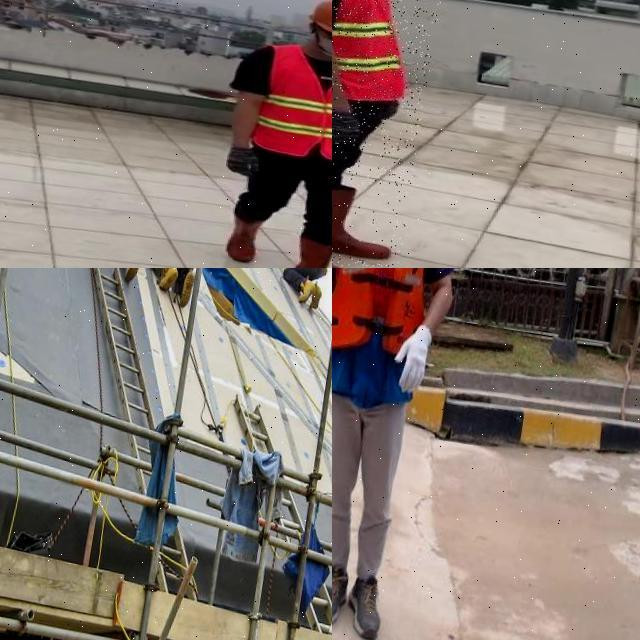boots: (332, 179, 398, 264), (340, 567, 393, 640), (332, 191, 375, 268), (221, 209, 265, 266), (332, 560, 354, 633), (289, 232, 332, 268), (155, 268, 180, 294), (180, 272, 198, 308), (308, 286, 327, 312), (297, 282, 315, 306), (122, 268, 145, 285)
helmet: (302, 0, 332, 43)
vest: (332, 268, 449, 410), (332, 0, 427, 108), (254, 40, 332, 164)
